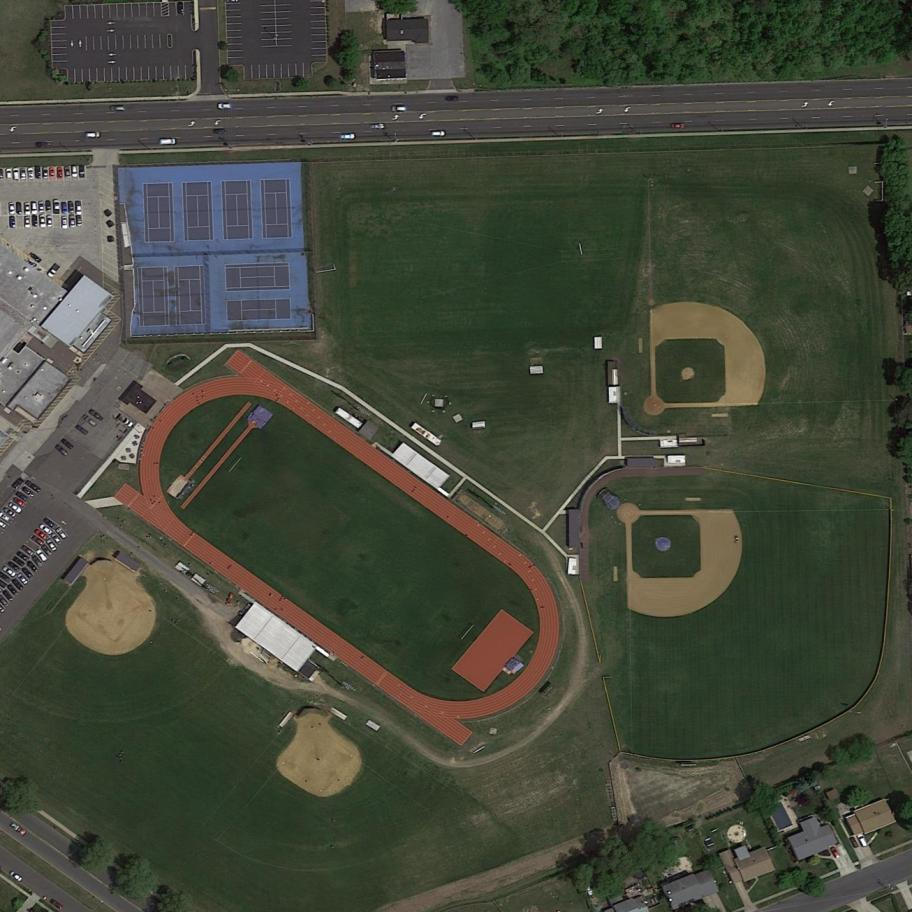small-vehicle: (48, 896, 66, 912), (8, 868, 24, 884), (82, 413, 98, 429), (46, 262, 61, 279), (117, 414, 134, 429), (88, 408, 105, 422), (26, 480, 42, 494), (35, 548, 49, 564), (20, 544, 35, 558), (856, 833, 869, 849), (7, 501, 23, 514), (54, 444, 68, 458), (22, 486, 36, 500), (16, 572, 29, 587), (3, 506, 18, 519), (38, 523, 53, 536), (21, 566, 34, 580), (8, 560, 22, 573), (11, 577, 24, 591), (75, 424, 89, 437), (61, 438, 75, 451), (34, 528, 48, 541), (31, 534, 45, 547), (2, 566, 17, 578), (1, 590, 14, 603), (30, 252, 43, 265), (41, 544, 54, 557), (7, 583, 19, 597), (31, 554, 43, 568), (13, 497, 27, 509), (56, 527, 68, 541), (43, 517, 57, 529), (45, 539, 57, 553), (849, 835, 860, 850), (27, 561, 39, 574), (16, 491, 29, 503), (51, 533, 63, 546), (830, 846, 841, 860), (34, 141, 52, 149), (339, 132, 355, 141), (16, 551, 29, 562), (216, 103, 233, 111), (13, 556, 25, 567), (110, 105, 126, 113), (371, 123, 386, 131), (160, 138, 177, 145), (84, 131, 101, 138), (34, 165, 42, 179), (38, 199, 45, 214), (78, 163, 85, 178), (75, 201, 82, 215), (61, 216, 68, 230), (16, 201, 23, 215), (671, 122, 685, 129), (20, 168, 27, 181), (13, 168, 20, 181), (69, 215, 76, 228), (61, 201, 68, 214), (39, 215, 46, 228), (43, 167, 50, 180), (64, 166, 71, 179), (178, 2, 185, 15), (8, 202, 15, 215), (54, 200, 60, 215), (28, 168, 35, 180), (6, 168, 13, 180), (68, 201, 75, 213), (32, 201, 38, 215), (24, 216, 31, 228), (57, 167, 64, 179), (71, 165, 78, 177), (47, 215, 53, 228), (24, 202, 30, 215), (10, 216, 16, 228), (46, 200, 52, 212), (432, 131, 446, 136), (32, 215, 38, 226), (49, 168, 55, 179), (77, 215, 82, 227)
